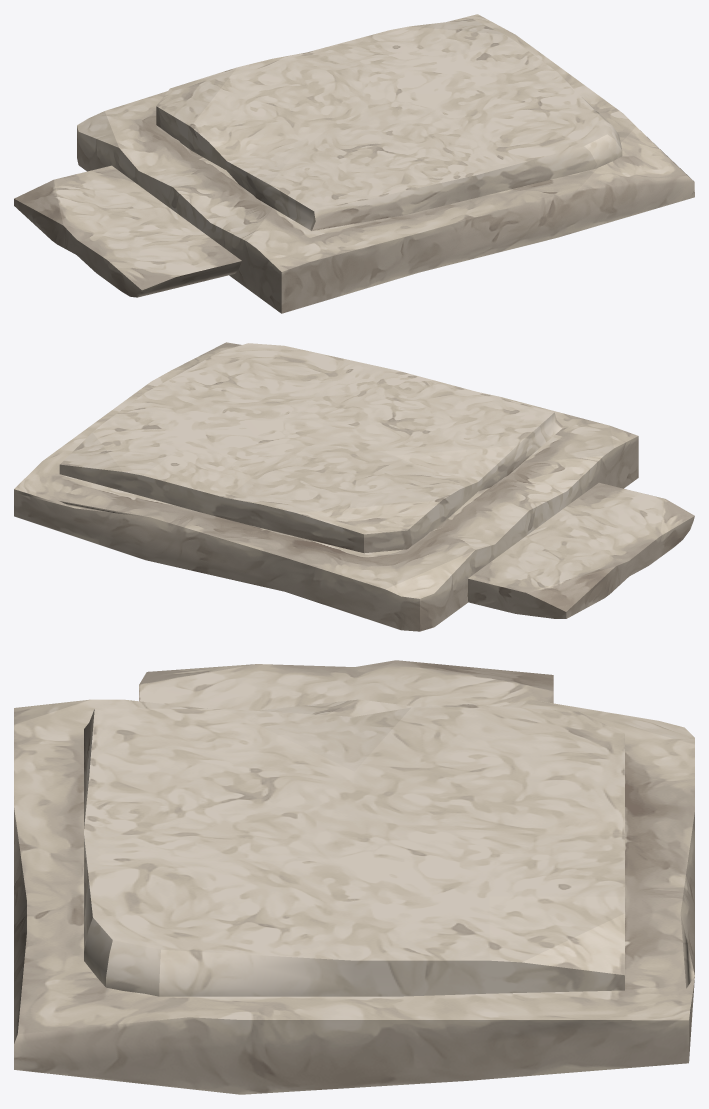
The model's file is ruina_1_podstawa.obj.
The picture shows the model from 3 angles, top to bottom: view 1: azimuth 30°, elevation 25°; view 2: azimuth 150°, elevation 25°; view 3: azimuth 270°, elevation 25°; orthographic projection. The views are drawn at different scales.
Visible parts, largest first — view 1: Cylinder.022; view 2: Cylinder.022; view 3: Cylinder.022.
Boxes of the visible parts, <box> form: Cylinder.022: <box>14,14,694,313</box>; Cylinder.022: <box>14,342,694,631</box>; Cylinder.022: <box>14,660,694,1094</box>.
Size of the model in its own units: 46.84 by 6.1 by 34.01.
Materials: 1 (1 with a texture image).
